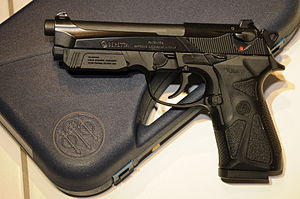gun: (40, 13, 294, 187)
